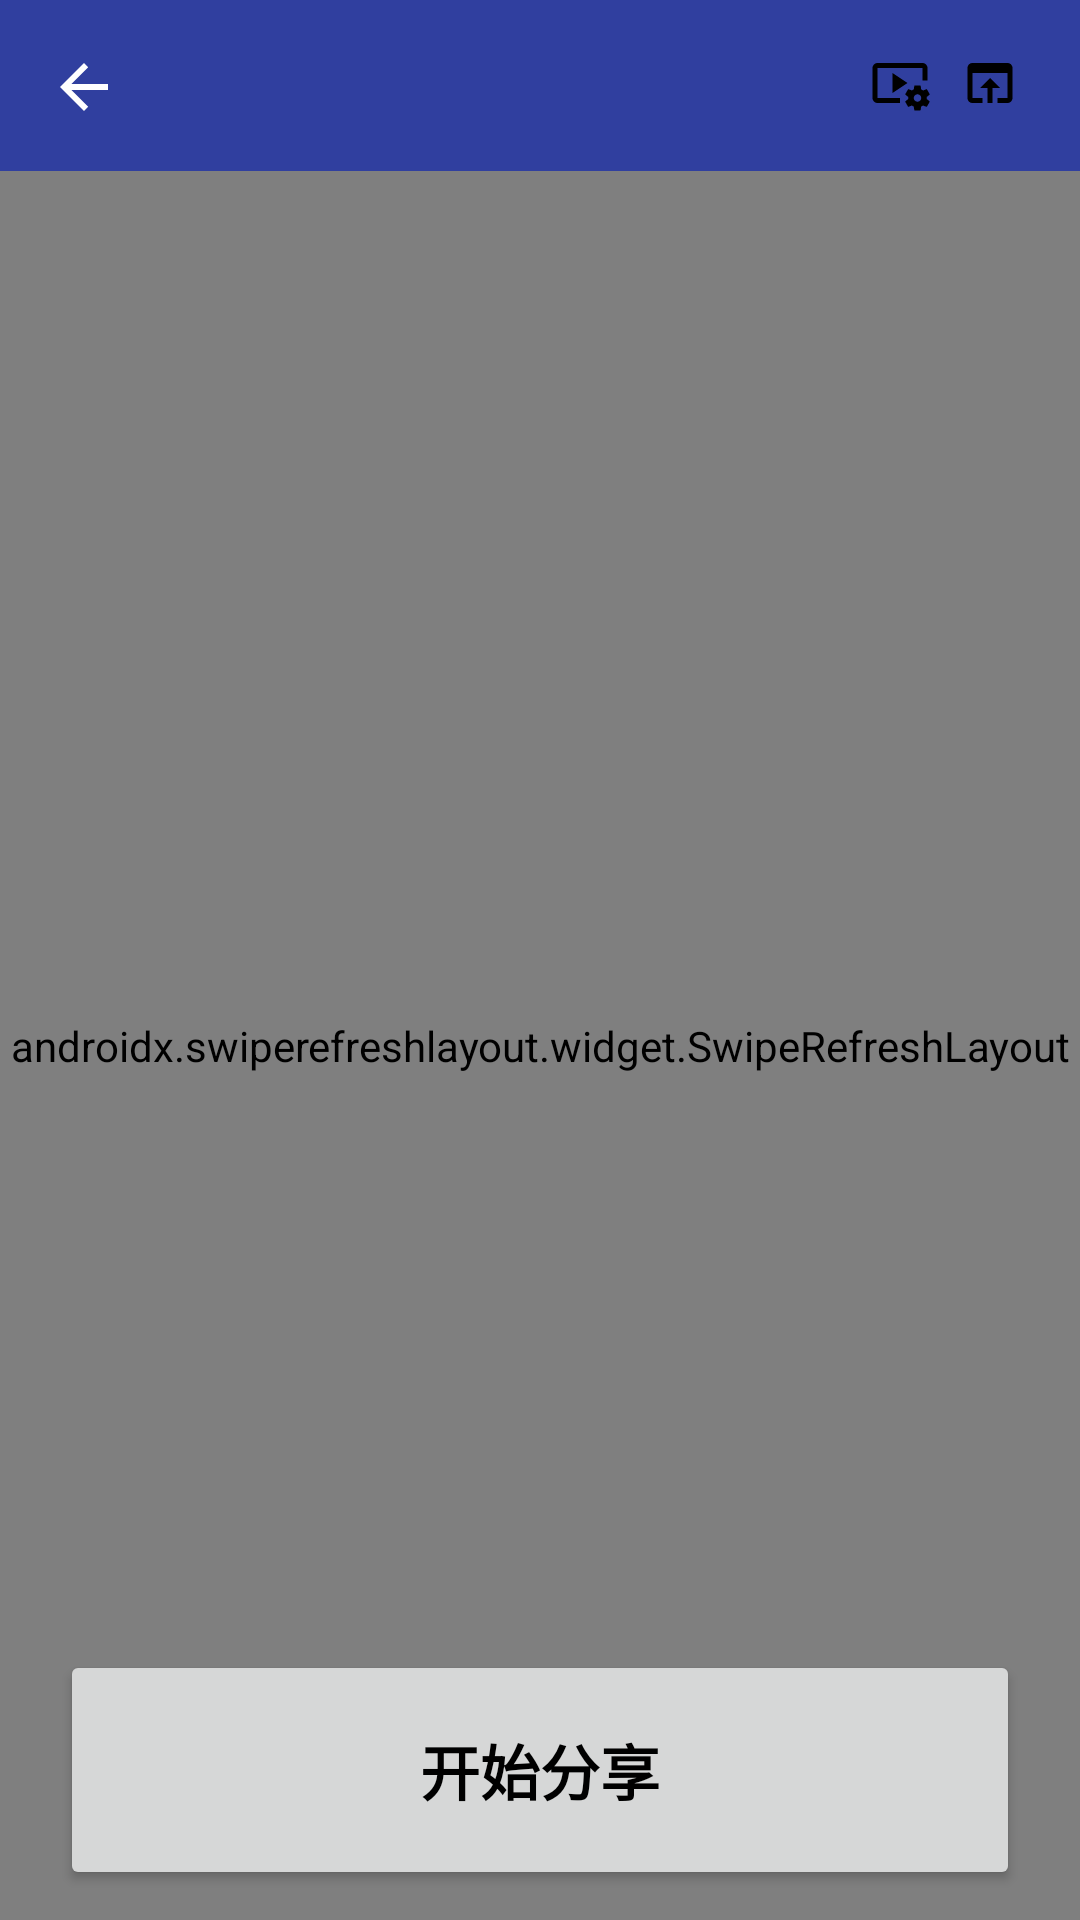

Icon click points for this 1080w x 1920h phone screenshot, format [x,y]:
open in browser deep: [990,83]
video settings: [901,87]
